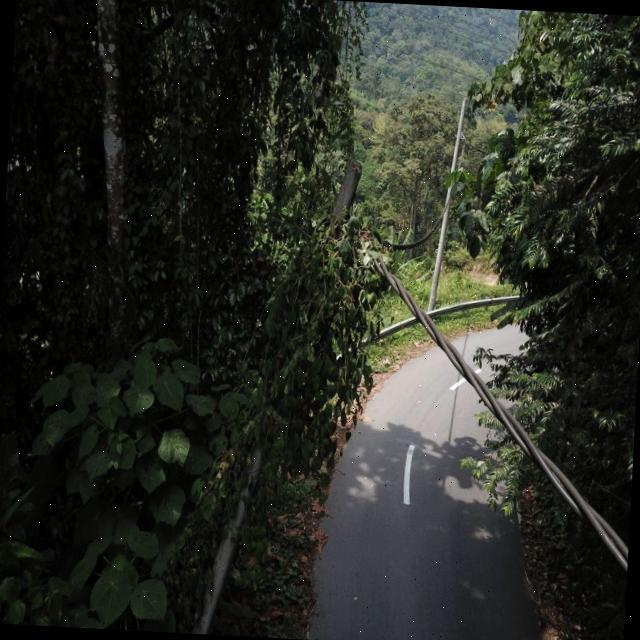critical vegetation: (184, 188, 398, 551)
